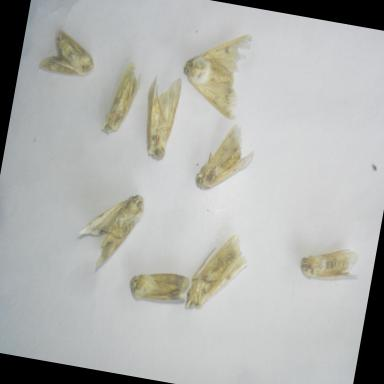abw: (174, 20, 257, 122), (70, 179, 150, 282), (180, 223, 256, 319), (188, 110, 262, 202), (134, 68, 188, 166), (95, 53, 148, 142), (34, 20, 106, 84), (295, 234, 366, 292), (122, 260, 196, 312)
